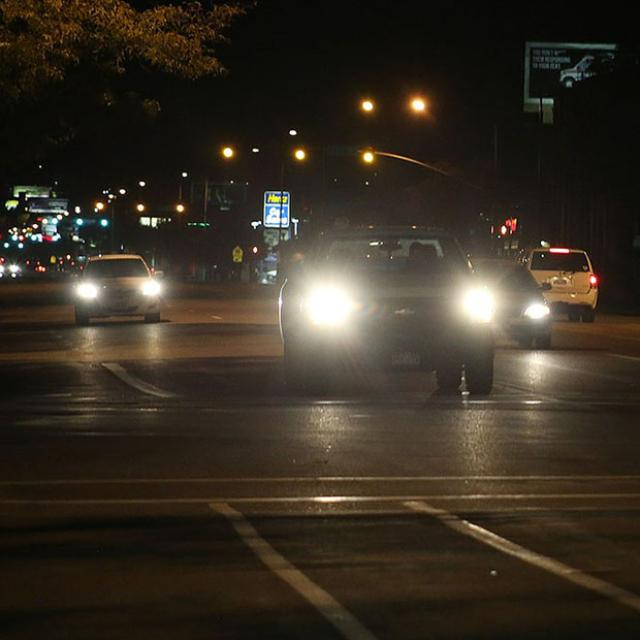headlights: (287, 270, 492, 343), (68, 276, 164, 308)
